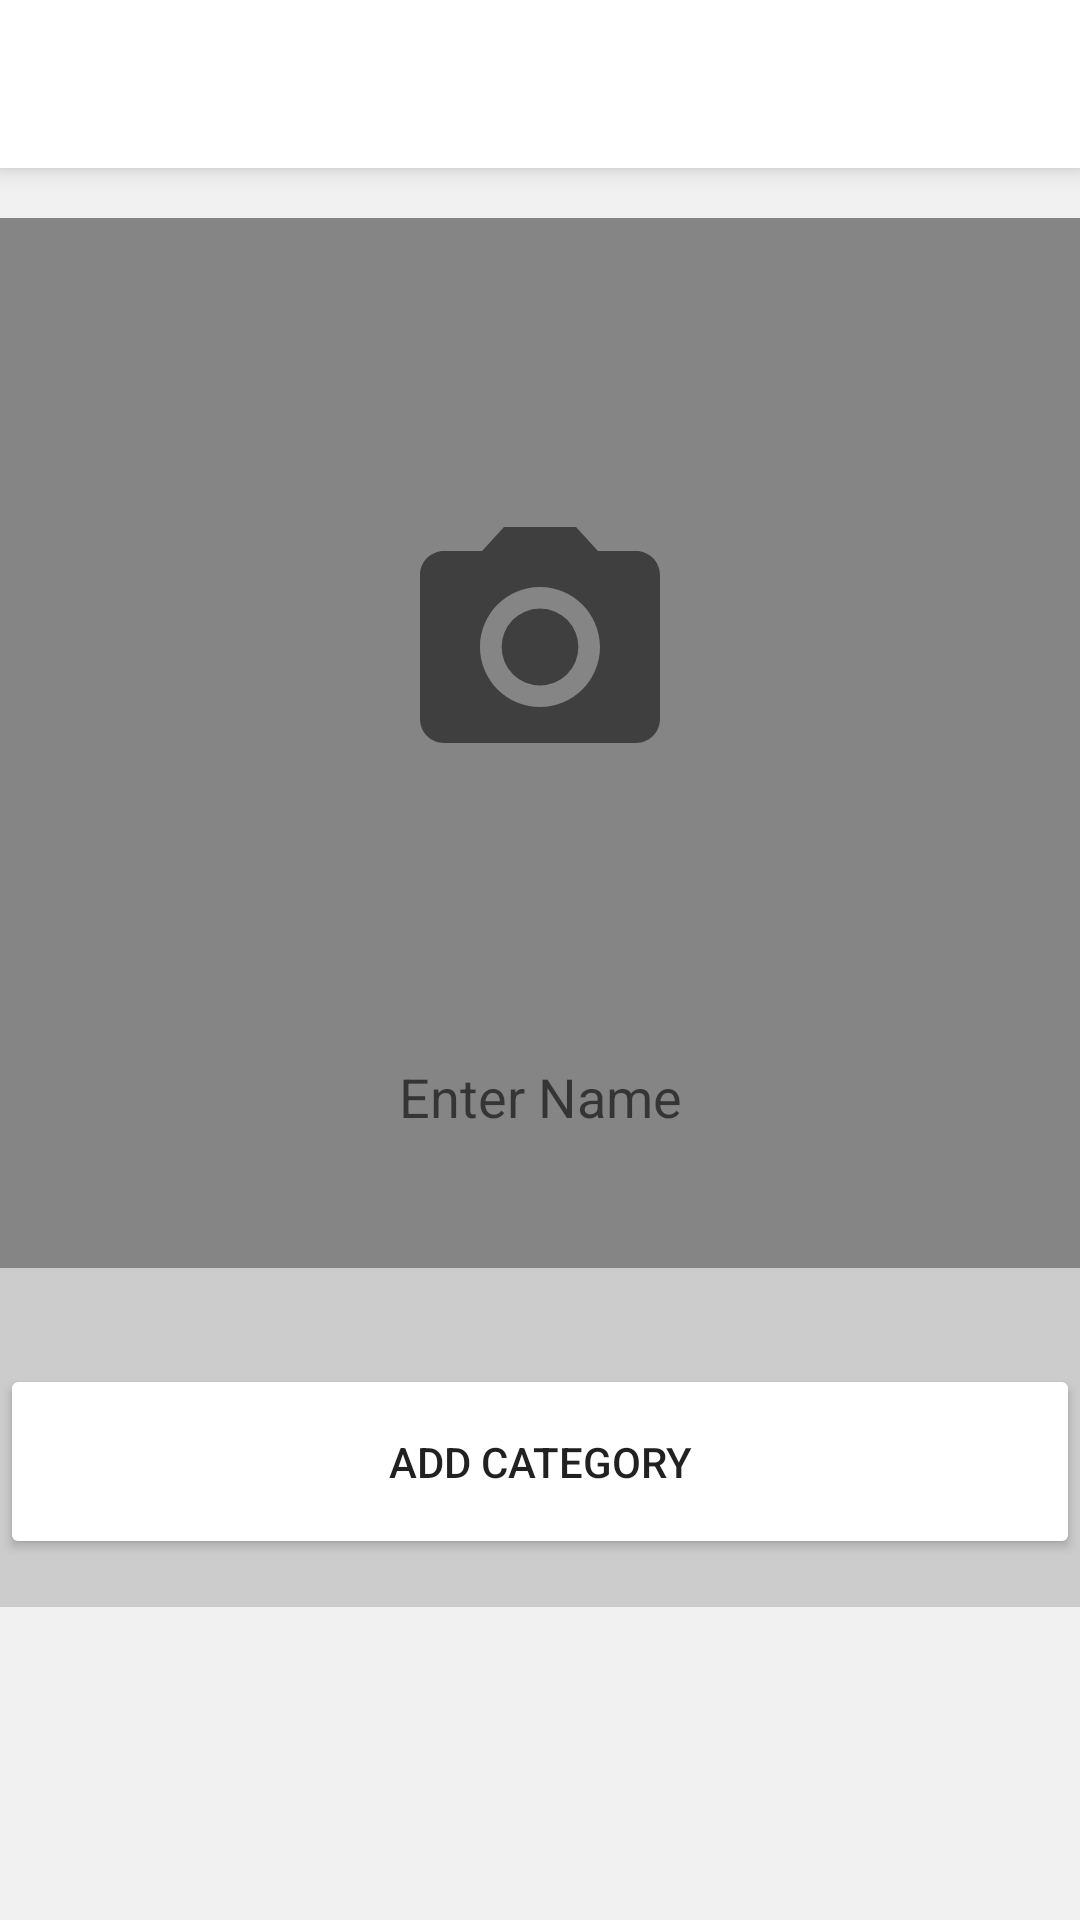

Icons on this 1080w x 1920h Android screen, each with its box as (x1, y1, x2, y2):
camera: (420, 527, 660, 743)
